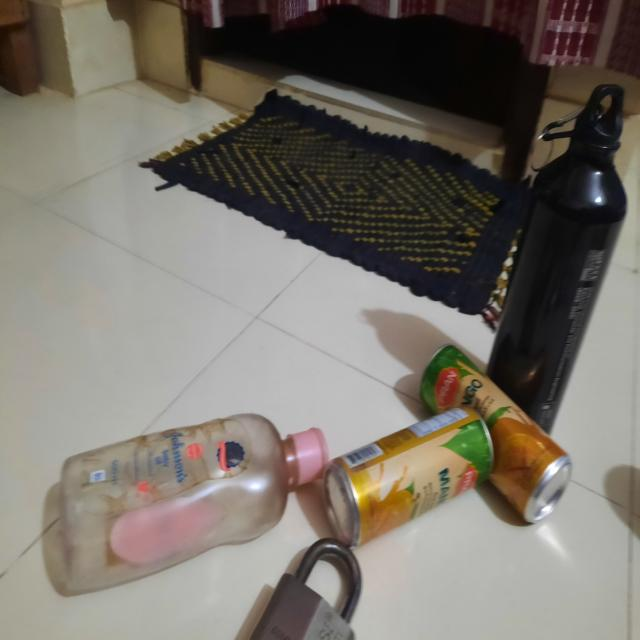Metal: (261, 535, 368, 640)
Plastics: (58, 395, 289, 592)
can: (328, 358, 570, 562), (506, 126, 628, 400)
